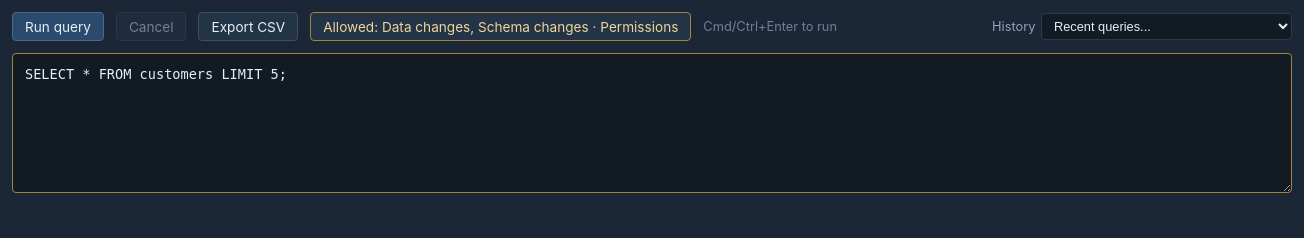
Test: SqlEditor permissions › reports changed rows and refreshes the schema after schema changes
Expected: the button "Allowed: Data changes, Schema changes · Permissions" is shown, [310, 12, 691, 41]
Replace the text in the text box named "SQL" with "CREATE TABLE u(a); INSERT INTO u VALUES (1),(2),(3)": (652,123) [12, 53, 1292, 193]
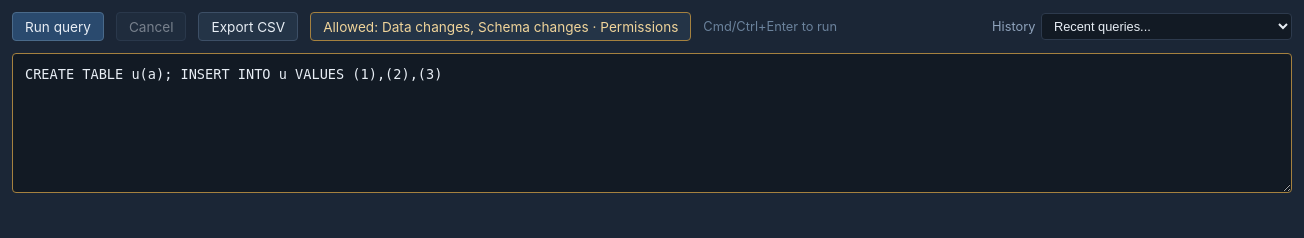
Click the button "Run query": (58,27) [12, 12, 104, 41]
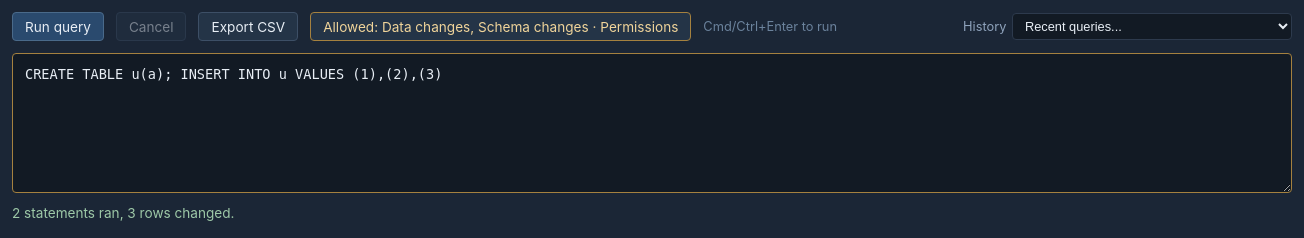
Expected: the text "2 statements ran, 3 rows changed." is shown, [12, 205, 234, 221]
